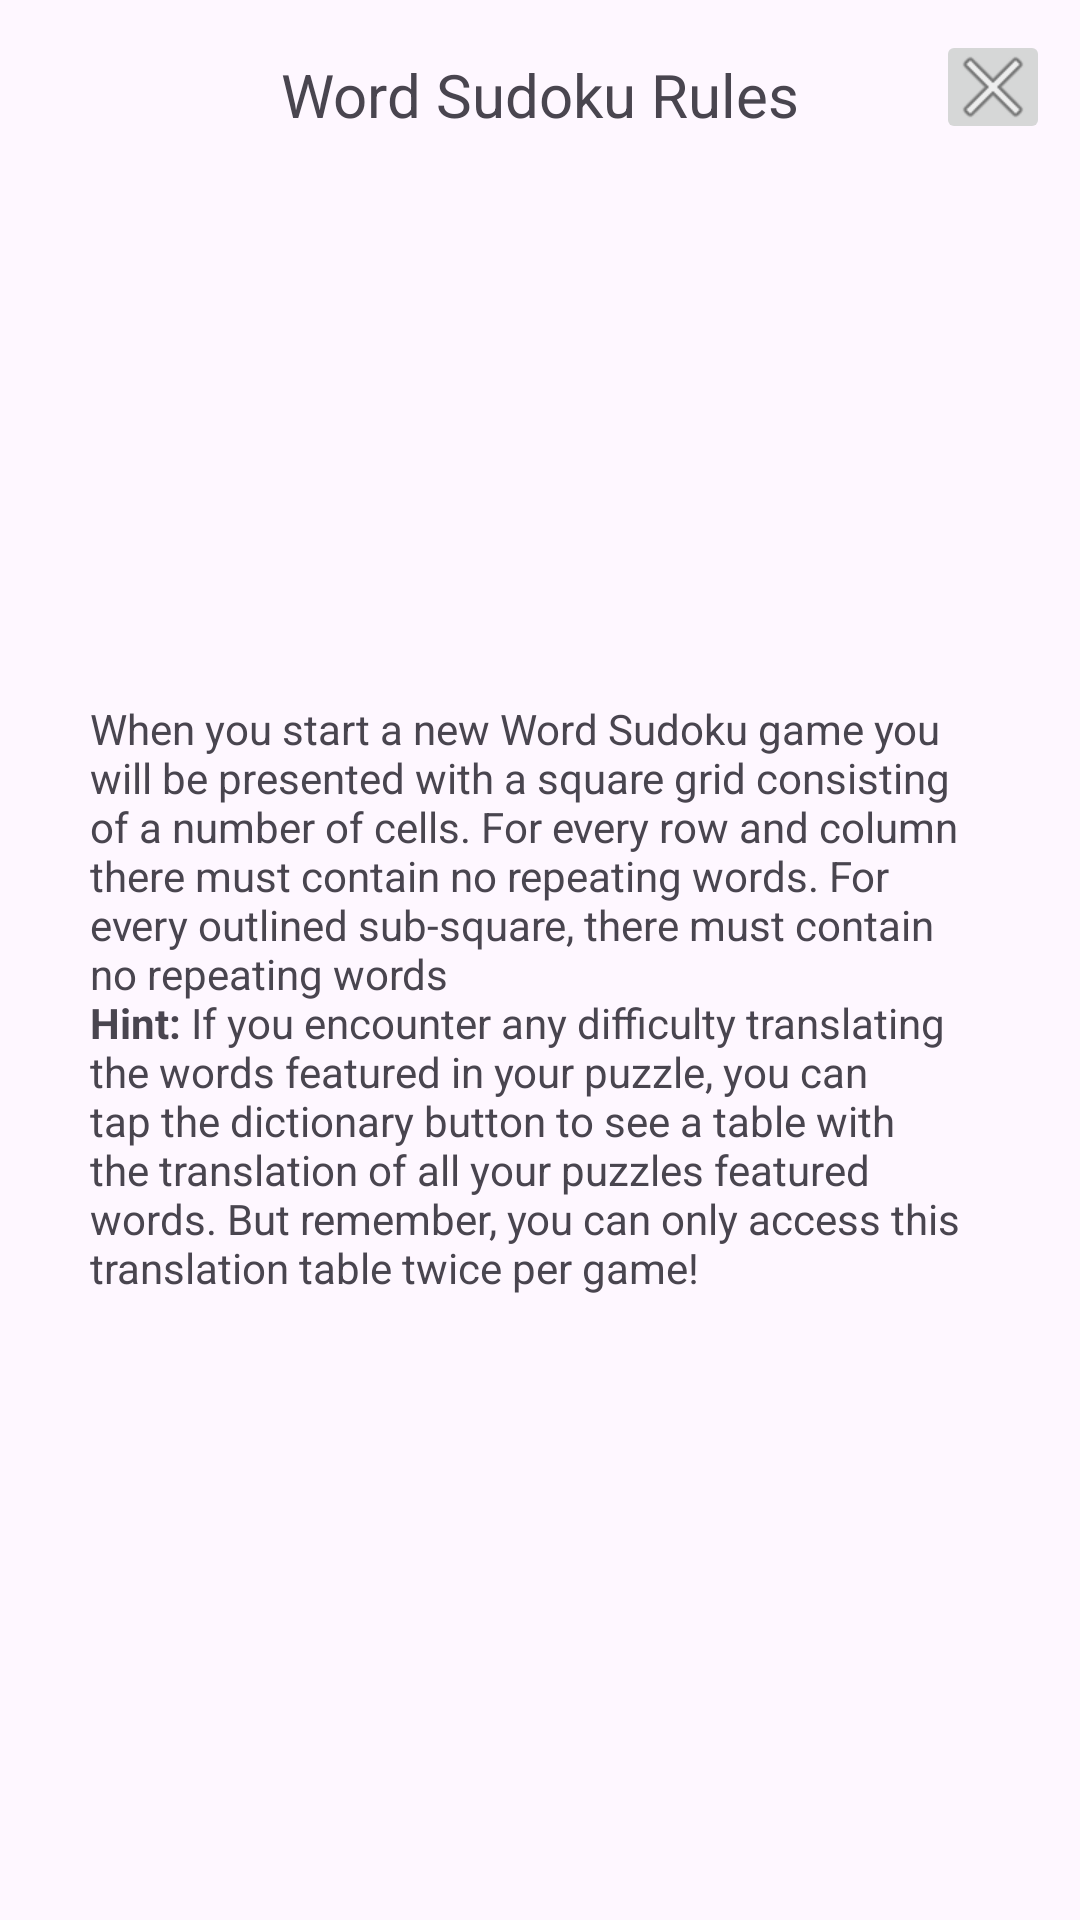

Icons on this 1080px×1920px Android screen, each with the point to tap as point (x, y):
close clear cancel: point (993, 87)
